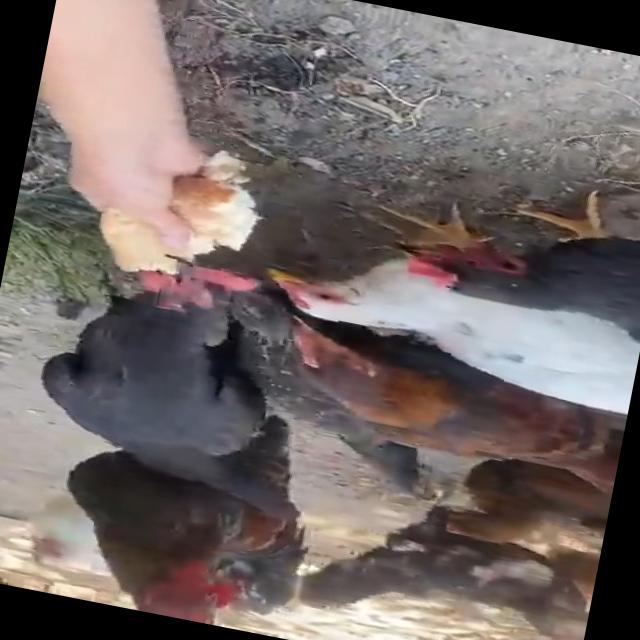feeding: (242, 217, 640, 402), (26, 246, 286, 480)
